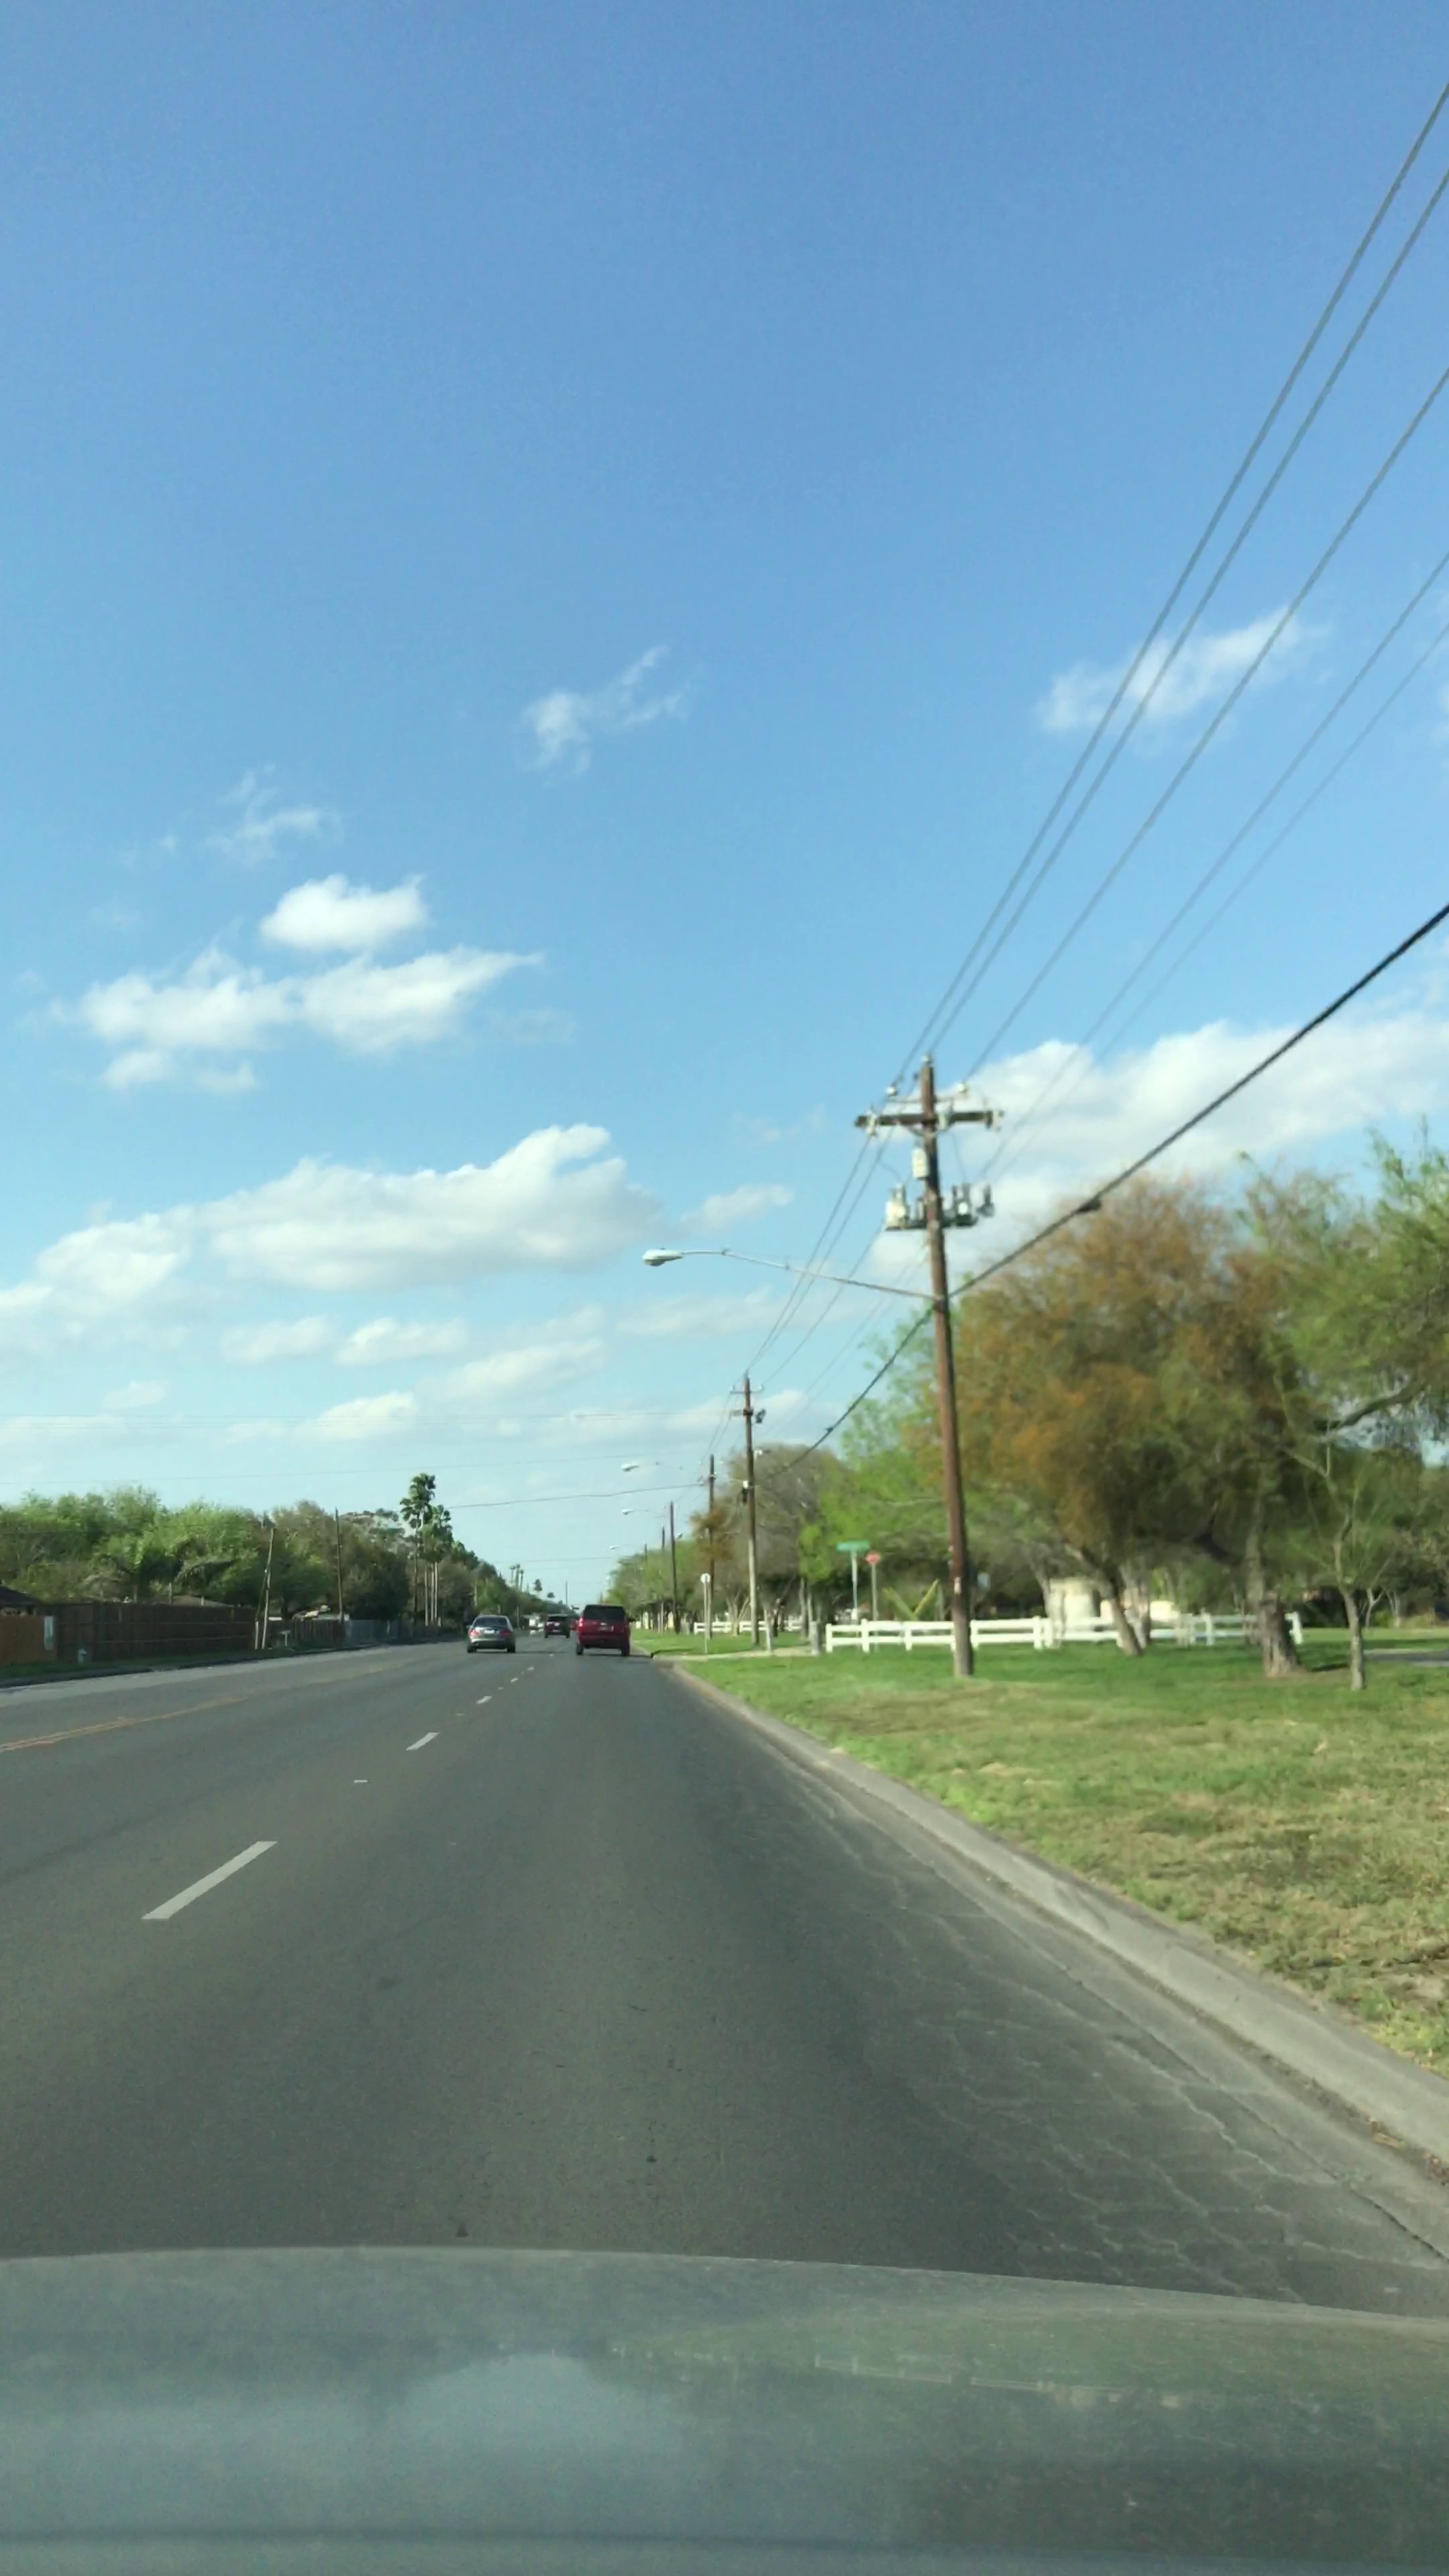alligatorCrack: (892, 1969, 1359, 2293), (777, 1789, 1024, 1969)
